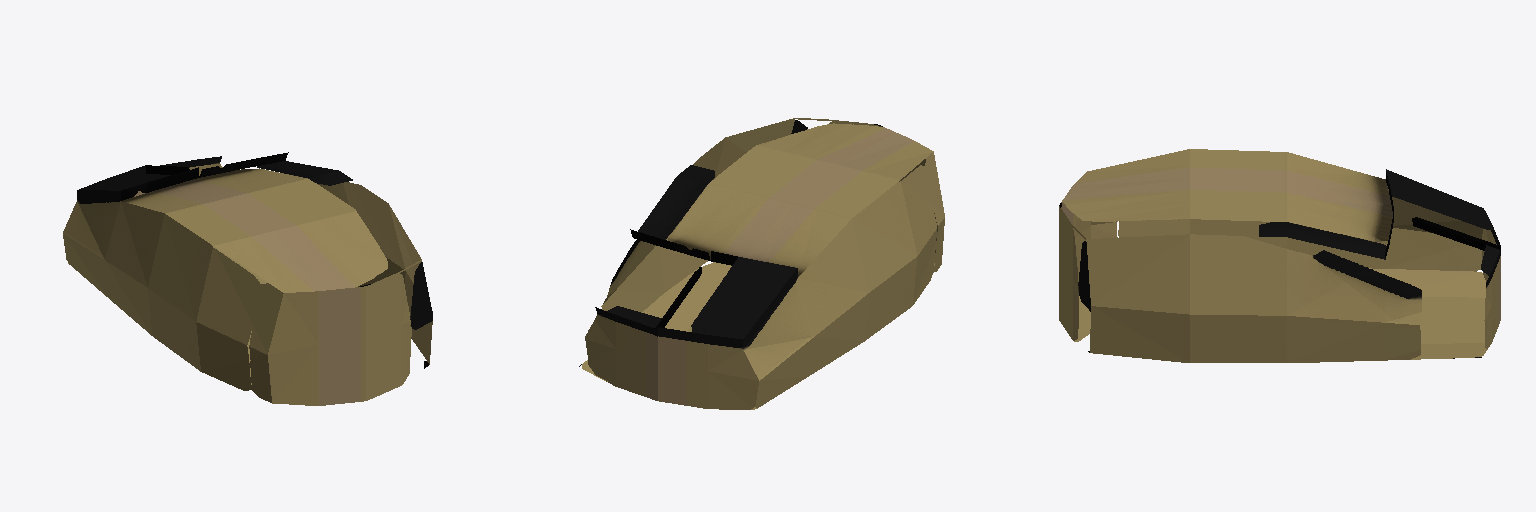
3 views of the same model, side by side, from view 1: azimuth 30°, elevation 25°; view 2: azimuth 150°, elevation 25°; view 3: azimuth 270°, elevation 25° (orthographic).
Visible parts, largest first — view 1: Cube.001_Cube.004; view 2: Cube.001_Cube.004; view 3: Cube.001_Cube.004.
Boxes of the visible parts, x1=… form: Cube.001_Cube.004: x1=63, y1=152, x2=432, y2=405; Cube.001_Cube.004: x1=579, y1=118, x2=944, y2=409; Cube.001_Cube.004: x1=1059, y1=149, x2=1500, y2=362.
Size of the model in its own units: 0.2 by 0.1175 by 0.3653.
3 materials, 1 textured.